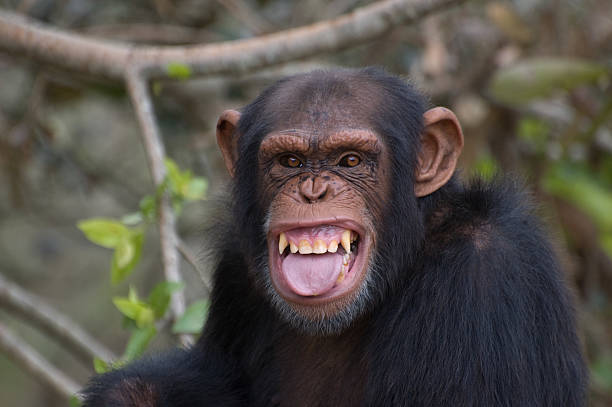chimpanzee: (180, 42, 470, 353)
